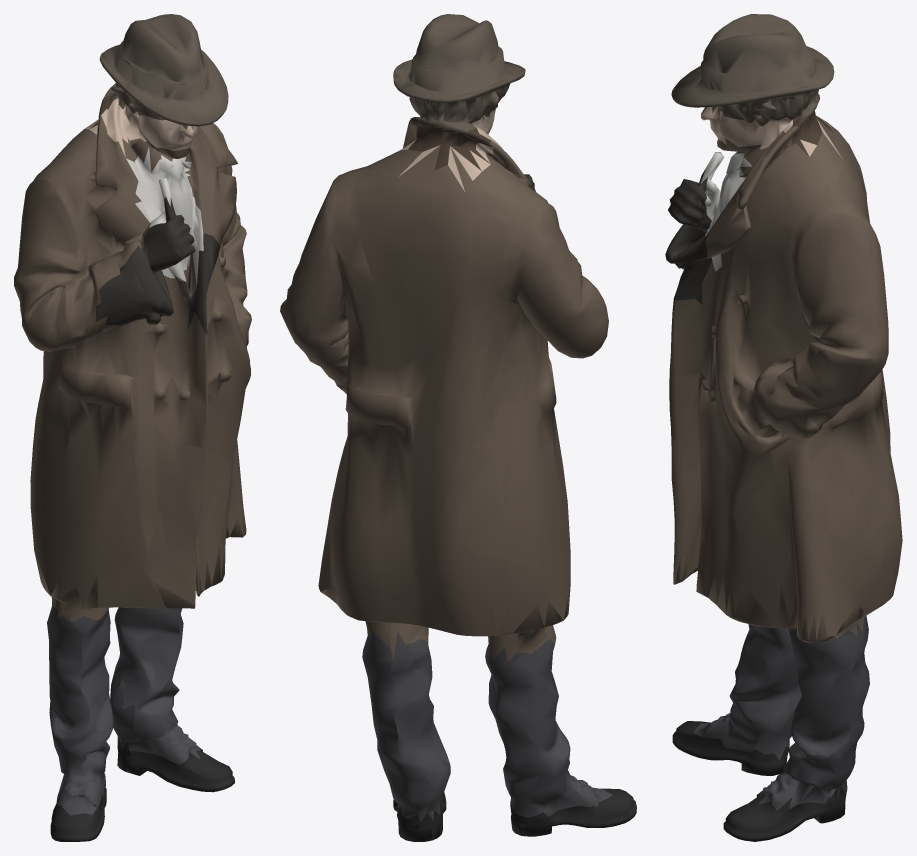
Rendered from detective.glb.
3 renders of one model, left to right at view 1: azimuth 30°, elevation 25°; view 2: azimuth 150°, elevation 25°; view 3: azimuth 270°, elevation 25°, orthographic. The views are drawn at different scales.
Parts seen in each view (by area): view 1: Body, LegL, LegR; view 2: Body, LegL, LegR; view 3: Body, LegR, LegL.
Boxes of the visible parts, x1,y1,x2,y2 form: Body: [14, 14, 251, 608]; LegL: [37, 557, 195, 841]; LegR: [111, 509, 246, 792]; Body: [280, 14, 608, 635]; LegL: [421, 592, 636, 840]; LegR: [319, 587, 450, 841]; Body: [665, 14, 902, 640]; LegR: [696, 557, 888, 841]; LegL: [672, 552, 801, 775].
Bounding box in the file's own units: 0.6858 × 1.9 × 0.5184.
